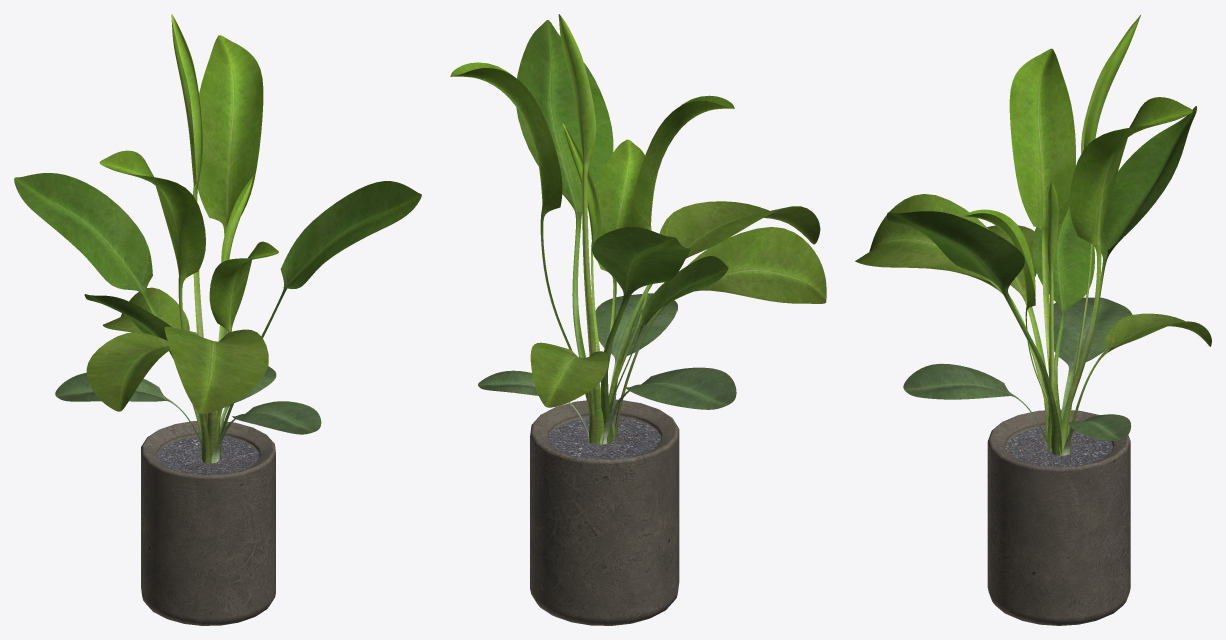
The model's file is rhyzome_plant.glb.
The picture shows the model from 3 angles, left to right: view 1: azimuth 30°, elevation 25°; view 2: azimuth 150°, elevation 25°; view 3: azimuth 270°, elevation 25°; orthographic projection. The views are drawn at different scales.
Visible parts, largest first — view 1: plant, concrete_pot; view 2: plant, concrete_pot; view 3: plant, concrete_pot.
Boxes of the visible parts, x1=… form: plant: x1=14, y1=14, x2=421, y2=463; concrete_pot: x1=141, y1=421, x2=275, y2=625; plant: x1=450, y1=14, x2=826, y2=444; concrete_pot: x1=530, y1=399, x2=679, y2=625; plant: x1=855, y1=15, x2=1211, y2=455; concrete_pot: x1=987, y1=409, x2=1130, y2=625.
Bounding box in the file's own units: 0.9757 × 1.81 × 0.9984.
2 materials, 2 textured.
